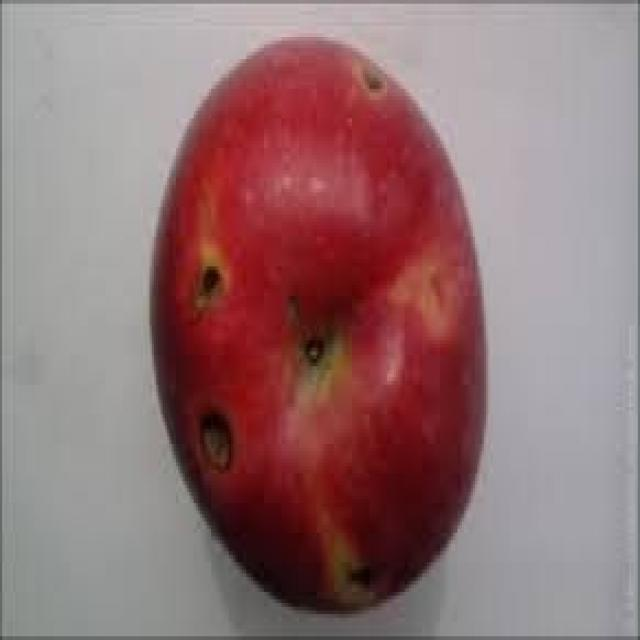Rotten: (167, 44, 498, 604)
